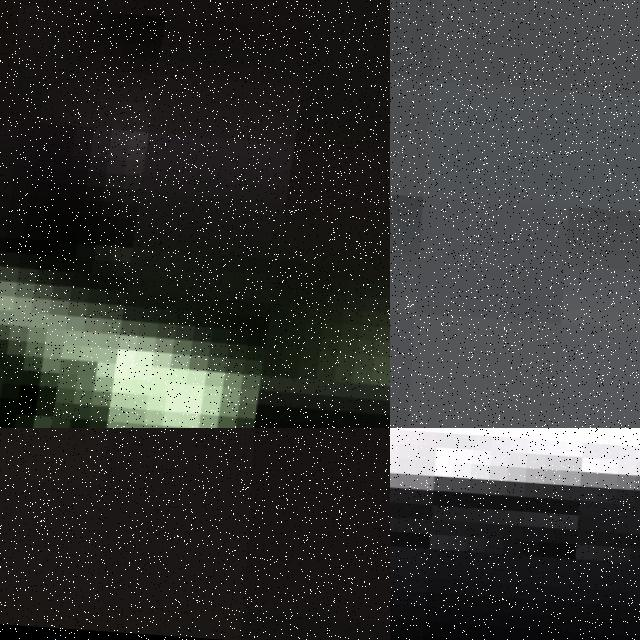drone: (0, 0, 390, 428)
